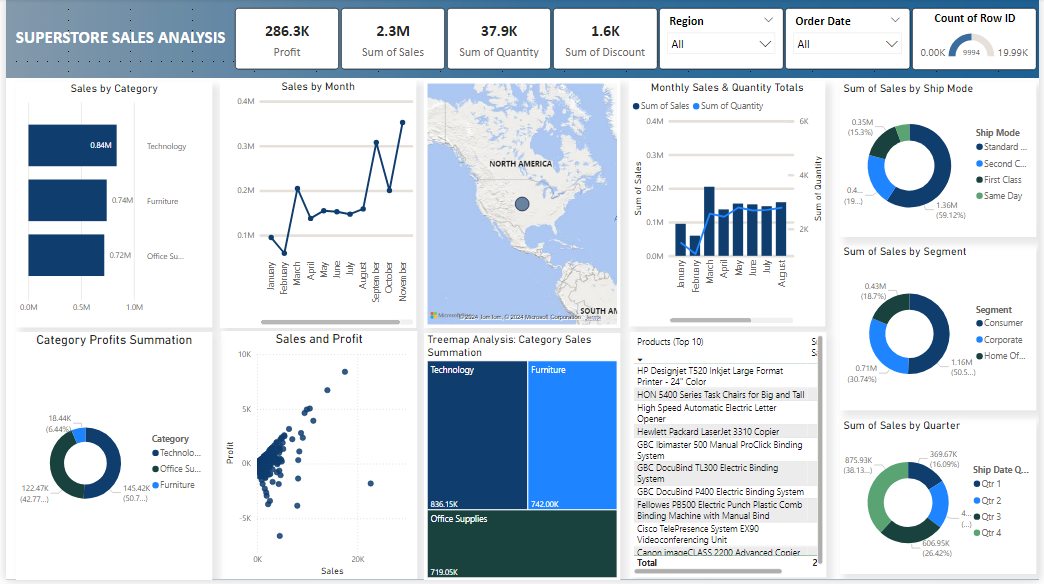

This screenshot's page, from the dashboard's own definition file:
{"tool":"powerbi","page":{"name":"Sales Analysis Dashboard","canvas":[1600,900],"ordinal":0},"visuals":[{"type":"shape","box":[0,123,1600,777],"z":0},{"type":"barChart","title":"Sales by Category","fields":{"Y":["Sum(sample_-_superstore xls - Orders.Sales)"],"Category":["sample_-_superstore xls - Orders.Category"]},"box":[15,128,304,380],"z":1000},{"type":"lineChart","title":"Sales by Month","fields":{"Y":["Sum(sample_-_superstore xls - Orders.Sales)"],"Category":["sample_-_superstore xls - Orders.Order Date.Variation.Date Hierarchy.Month"]},"box":[331.8,125,304,384],"z":2000},{"type":"scatterChart","fields":{"X":["sample_-_superstore xls - Orders.Sales"],"Y":["sample_-_superstore xls - Orders.Profit"]},"box":[332.8,514,304,384],"z":3000},{"type":"pieChart","title":"Sales by Segment","fields":{"Category":["sample_-_superstore xls - Orders.Segment"],"Y":["Sum(sample_-_superstore xls - Orders.Sales)"]},"box":[1602.5,343.3,383.4,306.4],"z":4000},{"type":"map","title":"Sales by Country","fields":{"Category":["sample_-_superstore xls - Orders.Country"],"Size":["Sum(sample_-_superstore xls - Orders.Sales)"]},"box":[646.5,126,304,384],"z":5000},{"type":"lineClusteredColumnComboChart","title":"Monthly Sales & Quantity Totals","fields":{"Category":["sample_-_superstore xls - Orders.Order Date.Variation.Date Hierarchy.Month"],"Y":["Sum(sample_-_superstore xls - Orders.Sales)"],"Y2":["Sum(sample_-_superstore xls - Orders.Quantity)"]},"box":[964,127,304,380],"z":6000},{"type":"tableEx","fields":{"Values":["sample_-_superstore xls - Orders.Product Name","Sum(sample_-_superstore xls - Orders.Sales)"]},"box":[966,516,304,380],"z":7000},{"type":"treemap","title":"Treemap Analysis: Category Sales Summation","fields":{"Values":["Sum(sample_-_superstore xls - Orders.Sales)"],"Group":["sample_-_superstore xls - Orders.Category"]},"box":[646.5,517,304,384],"z":8000},{"type":"donutChart","title":"Category Profits Summation","fields":{"Category":["sample_-_superstore xls - Orders.Category"],"Y":["Sum(sample_-_superstore xls - Orders.Profit)"]},"box":[15,516,304,384],"z":9000},{"type":"donutChart","title":"Sales by Ship Mode","fields":{"Y":["Sum(sample_-_superstore xls - Orders.Sales)"],"Category":["sample_-_superstore xls - Orders.Ship Mode"]},"box":[1673.3,215,313.3,115],"z":10000},{"type":"donutChart","title":"Sales by Quarter","fields":{"Y":["Sum(sample_-_superstore xls - Orders.Sales)"],"Category":["sample_-_superstore xls - Orders.Order Date.Variation.Date Hierarchy.Quarter"]},"box":[1602.5,663.2,383.4,321.6],"z":11000},{"type":"textbox","box":[0,38.3,355,45],"z":12000},{"type":"card","fields":{"Values":["Sum(sample_-_superstore xls - Orders.Profit)"]},"box":[355.3,14.5,160.9,94.5],"z":13000},{"type":"card","fields":{"Values":["Sum(sample_-_superstore xls - Orders.Sales)"]},"box":[518.9,14.5,160.9,94.5],"z":14000},{"type":"card","fields":{"Values":["Sum(sample_-_superstore xls - Orders.Quantity)"]},"box":[682.6,14.5,160.9,94.5],"z":15000},{"type":"card","fields":{"Values":["Sum(sample_-_superstore xls - Orders.Discount)"]},"box":[846.2,14.5,161.8,94.5],"z":16000},{"type":"slicer","fields":{"Values":["sample_-_superstore xls - Orders.Region"]},"box":[1010.8,14.5,192.7,94.5],"z":17000},{"type":"slicer","fields":{"Values":["sample_-_superstore xls - Orders.Order Date"]},"box":[1206.2,14.5,193.6,95.5],"z":18000},{"type":"gauge","fields":{"Y":["CountNonNull(sample_-_superstore xls - Orders.Row ID)"]},"box":[1402.6,13.6,192.7,96.4],"z":19000},{"type":"donutChart","fields":{"Category":["sample_-_superstore xls - Orders.Ship Date.Variation.Date Hierarchy.Quarter"],"Y":["Sum(sample_-_superstore xls - Orders.Sales)"]},"box":[1291,650,304,240],"z":20000},{"type":"donutChart","fields":{"Y":["Sum(sample_-_superstore xls - Orders.Sales)"],"Series":["sample_-_superstore xls - Orders.Segment"]},"box":[1291,381,304,256],"z":21000},{"type":"donutChart","fields":{"Category":["sample_-_superstore xls - Orders.Ship Mode"],"Y":["Sum(sample_-_superstore xls - Orders.Sales)"]},"box":[1291,128,304,240],"z":22000}]}

Visuals, with their boxes in screenshot pixels (x1, y1, x2, y2), scaled from the page's 1600x900 canvas onto the 1044x584 screenshot:
shape: <bbox>0, 80, 1043, 583</bbox>
"Sales by Category" barChart: <bbox>10, 83, 208, 330</bbox>
"Sales by Month" lineChart: <bbox>216, 81, 415, 330</bbox>
scatterChart - sample_-_superstore xls - Orders.Sales x sample_-_superstore xls - Orders.Profit: <bbox>217, 334, 416, 583</bbox>
"Sales by Country" map: <bbox>422, 82, 620, 331</bbox>
"Monthly Sales & Quantity Totals" lineClusteredColumnComboChart: <bbox>629, 82, 827, 329</bbox>
tableEx - sample_-_superstore xls - Orders.Product Name x Sum(sample_-_superstore xls - Orders.Sales): <bbox>630, 335, 829, 581</bbox>
"Treemap Analysis: Category Sales Summation" treemap: <bbox>422, 335, 620, 583</bbox>
"Category Profits Summation" donutChart: <bbox>10, 335, 208, 583</bbox>
textbox: <bbox>0, 25, 232, 54</bbox>
card - Sum(sample_-_superstore xls - Orders.Profit): <bbox>232, 9, 337, 71</bbox>
card - Sum(sample_-_superstore xls - Orders.Sales): <bbox>339, 9, 444, 71</bbox>
card - Sum(sample_-_superstore xls - Orders.Quantity): <bbox>445, 9, 550, 71</bbox>
card - Sum(sample_-_superstore xls - Orders.Discount): <bbox>552, 9, 658, 71</bbox>
slicer - sample_-_superstore xls - Orders.Region: <bbox>660, 9, 785, 71</bbox>
slicer - sample_-_superstore xls - Orders.Order Date: <bbox>787, 9, 913, 71</bbox>
gauge - CountNonNull(sample_-_superstore xls - Orders.Row ID): <bbox>915, 9, 1041, 71</bbox>
donutChart - sample_-_superstore xls - Orders.Ship Date.Variation.Date Hierarchy.Quarter x Sum(sample_-_superstore xls - Orders.Sales): <bbox>842, 422, 1041, 578</bbox>
donutChart - Sum(sample_-_superstore xls - Orders.Sales) x sample_-_superstore xls - Orders.Segment: <bbox>842, 247, 1041, 413</bbox>
donutChart - sample_-_superstore xls - Orders.Ship Mode x Sum(sample_-_superstore xls - Orders.Sales): <bbox>842, 83, 1041, 239</bbox>
